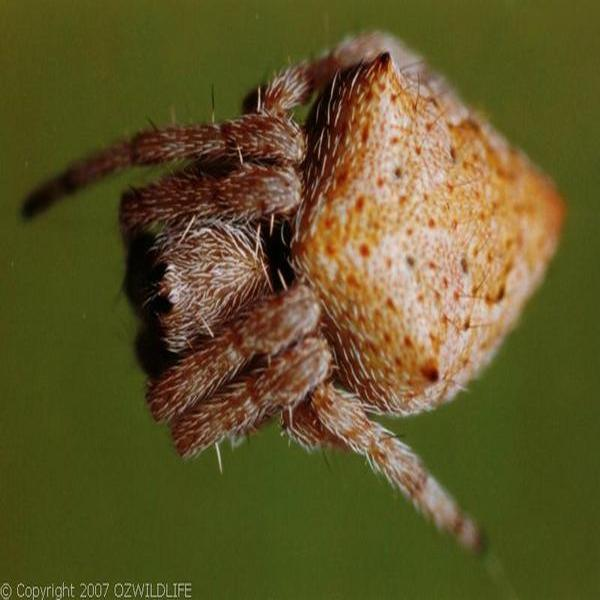Garden Orb Weaver Spider: (53, 43, 551, 529)
